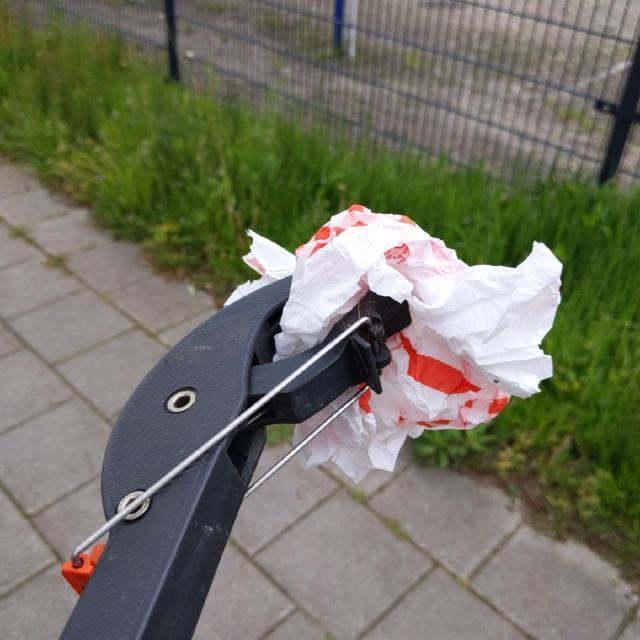Paper: (222, 200, 564, 484)
